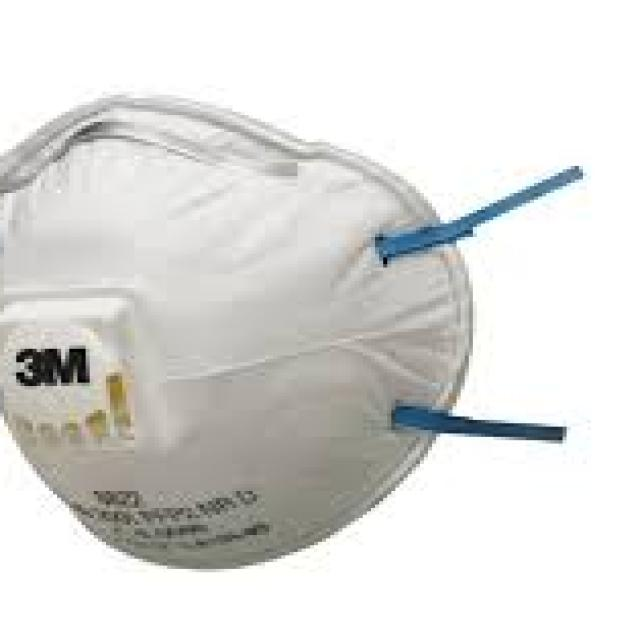organic: (14, 67, 610, 583)
